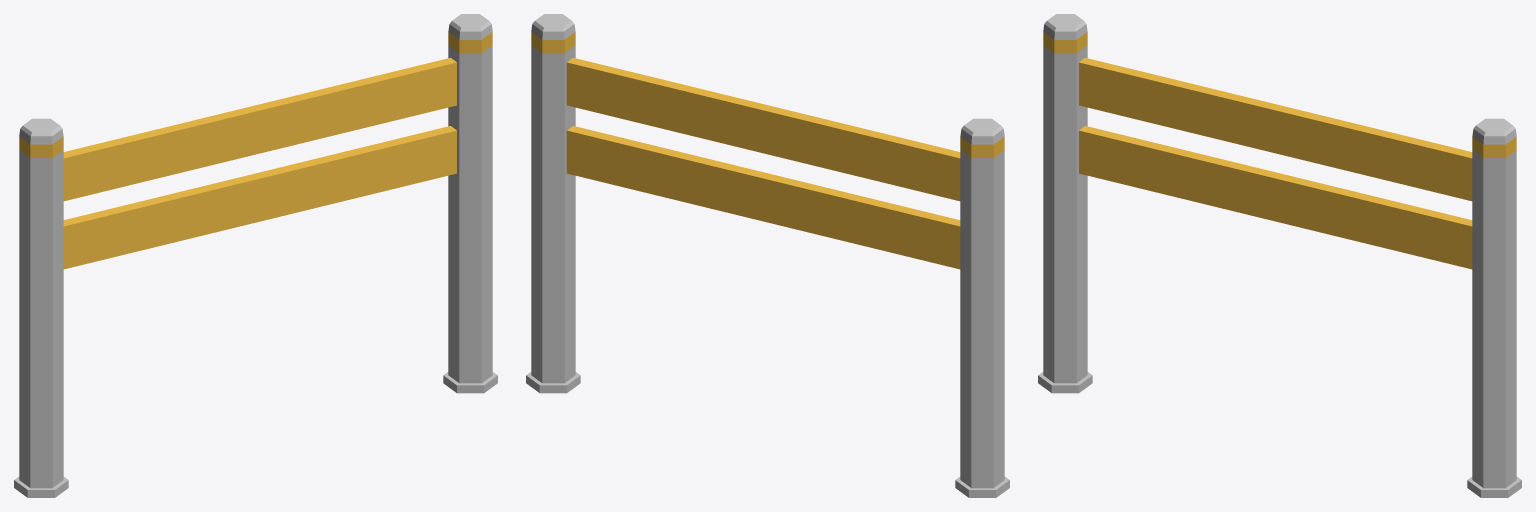
The model's file is barrier.fbx.
The picture shows the model from 3 angles, left to right: view 1: azimuth 30°, elevation 25°; view 2: azimuth 150°, elevation 25°; view 3: azimuth 330°, elevation 25°; orthographic projection.
Visible parts, largest first — view 1: barrier; view 2: barrier; view 3: barrier.
Boxes of the visible parts, x1,y1,x2,y2 form: barrier: [14, 14, 497, 497]; barrier: [526, 14, 1009, 497]; barrier: [1038, 14, 1521, 497].
Size of the model in its own units: 111 by 81.52 by 11.13.
